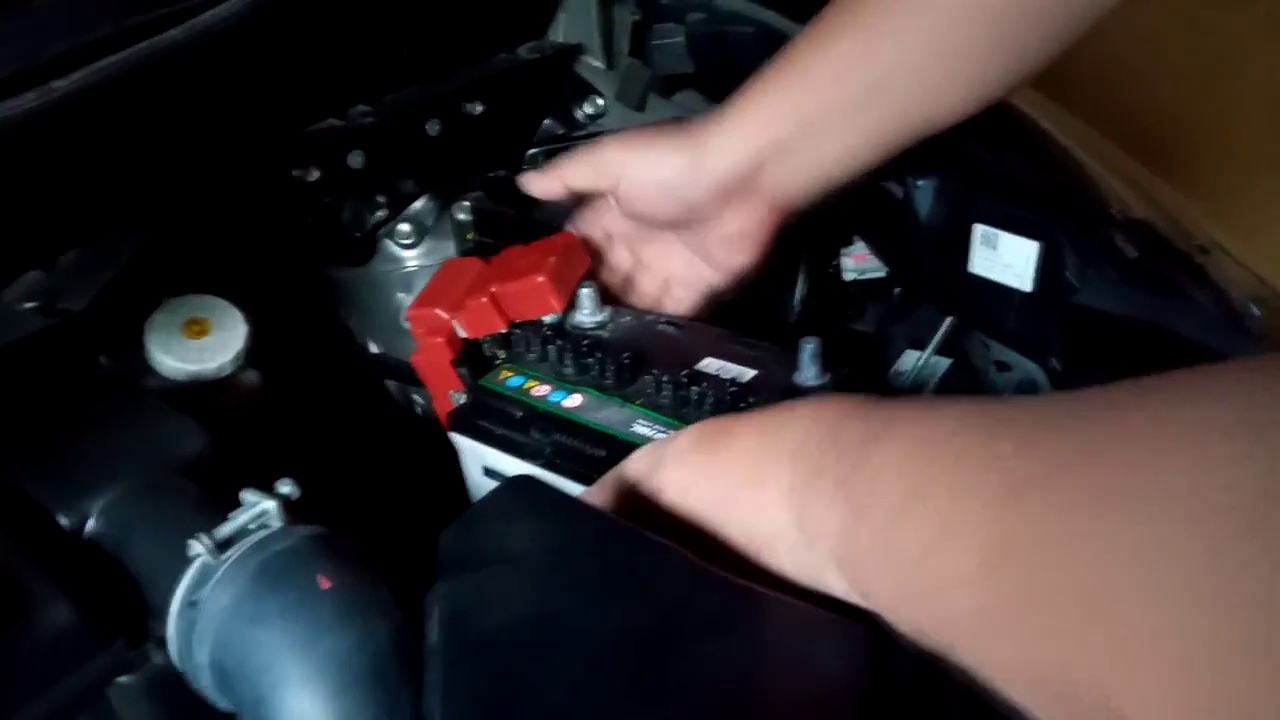battery: (410, 262, 876, 462)
neg_disconnected: (737, 296, 871, 403)
pos_disconnected: (398, 216, 627, 409)
